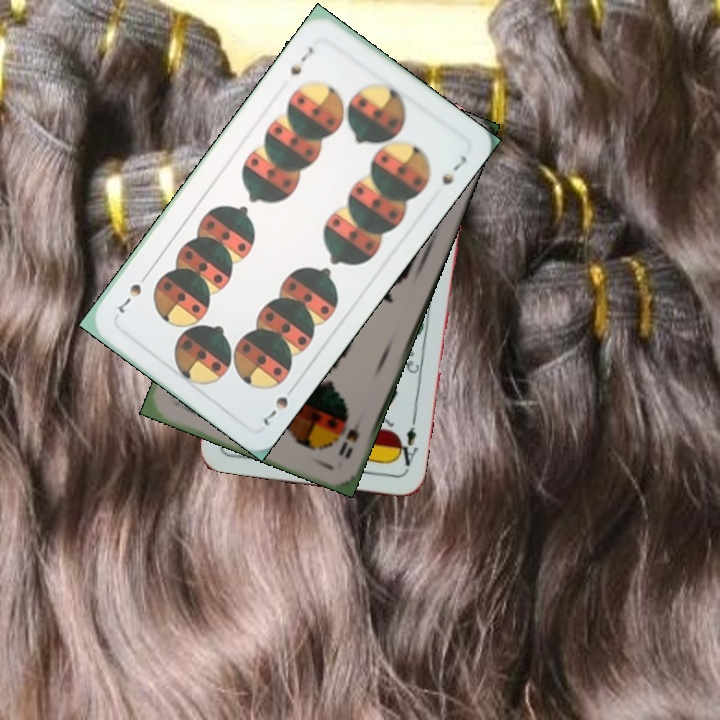EA: (392, 415, 421, 474)
S7: (257, 380, 299, 428), (286, 42, 317, 78)
SO: (334, 409, 367, 462)
